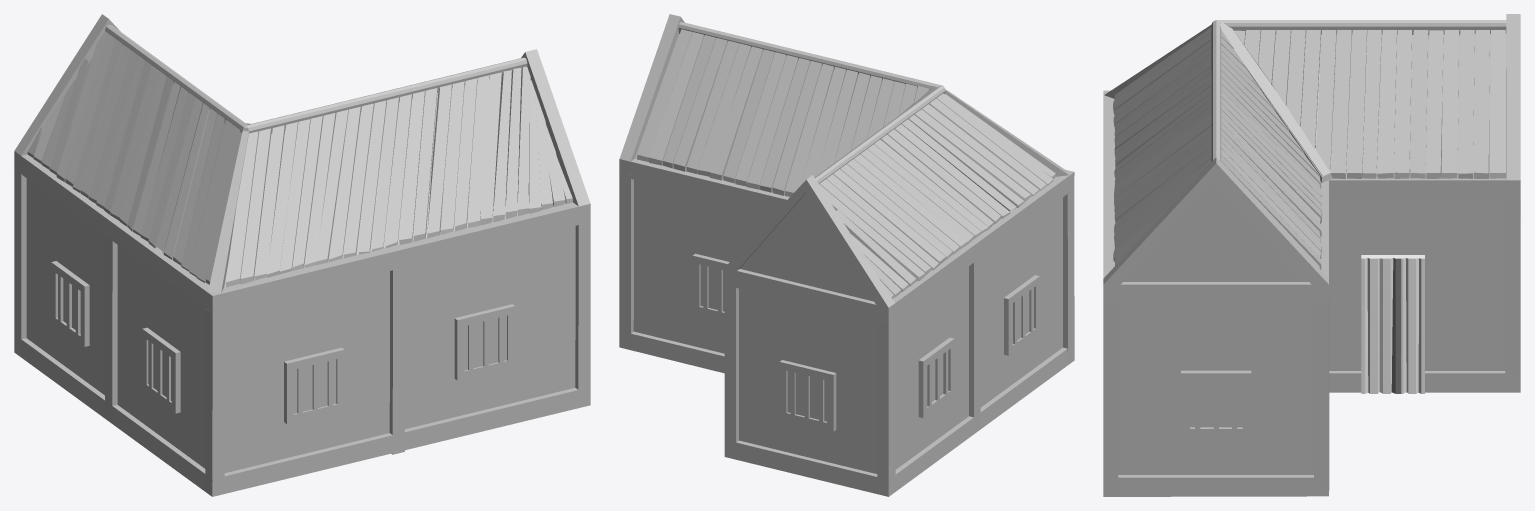
File: casa3.fbx
3 views of the same model, side by side, from view 1: azimuth 30°, elevation 25°; view 2: azimuth 150°, elevation 25°; view 3: azimuth 270°, elevation 25° (orthographic). The views are drawn at different scales.
Visible parts, largest first — view 1: telhas, estrutura, madeira, vidro; view 2: estrutura, telhas, madeira, vidro; view 3: estrutura, telhas, madeira, porta, vidro.
Part boxes in pixels (x1,y1,x2,y2): telhas: [27, 31, 572, 287]; estrutura: [26, 178, 575, 472]; madeira: [14, 14, 590, 496]; vidro: [63, 279, 506, 413]; estrutura: [633, 179, 1062, 473]; telhas: [637, 29, 1056, 298]; madeira: [619, 14, 1074, 496]; vidro: [700, 265, 1033, 421]; estrutura: [1118, 177, 1505, 474]; telhas: [1113, 27, 1505, 269]; madeira: [1103, 14, 1520, 496]; porta: [1361, 255, 1424, 393]; vidro: [1190, 381, 1242, 427].
Bounding box in the file's own units: 2161 × 1737 × 1960.
